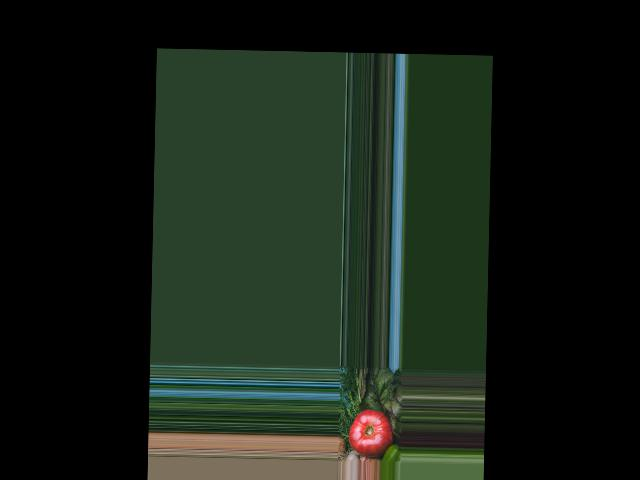tomato: (348, 409, 394, 458)
